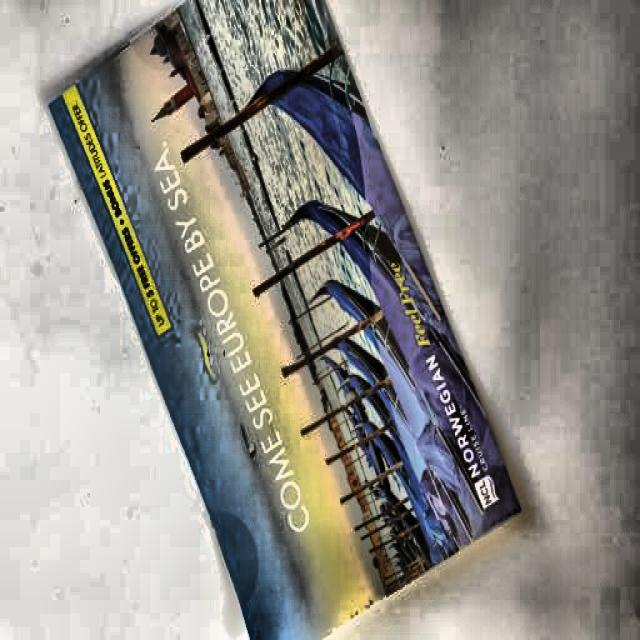paper: (30, 3, 528, 629)
